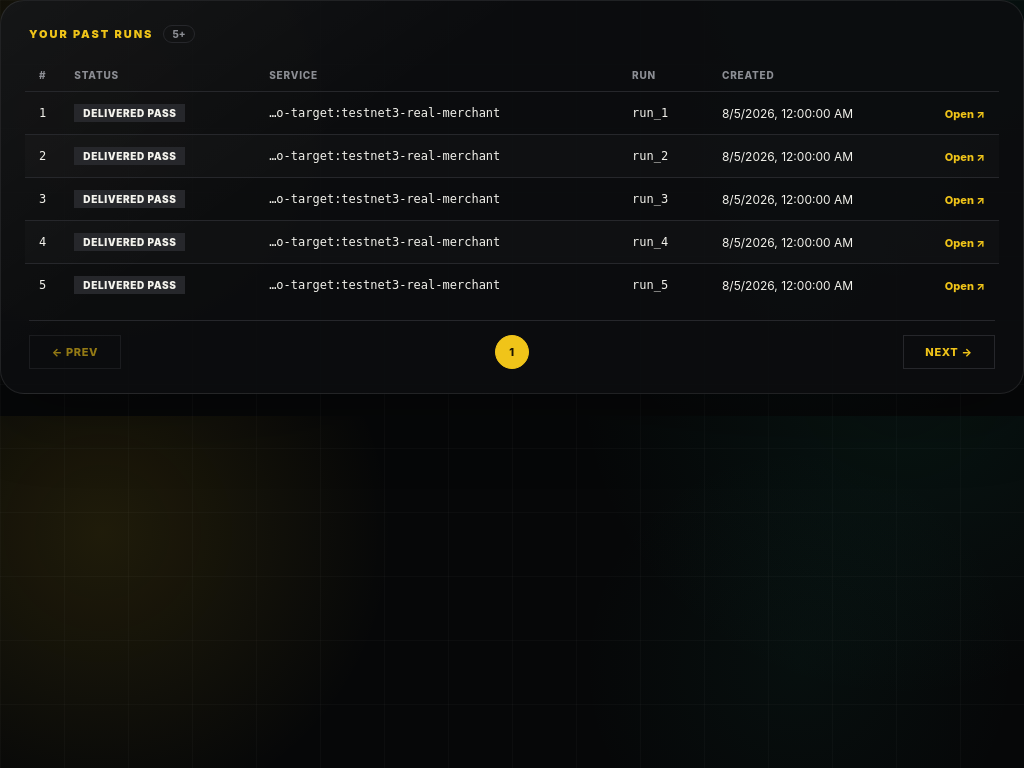
RunHistory › loads the next API batch when navigating beyond the loaded runs
The width and height of the screenshot is (1024, 768).
Click the button with aria-label "Next page".
click(949, 352)  # box [903,335,995,369]
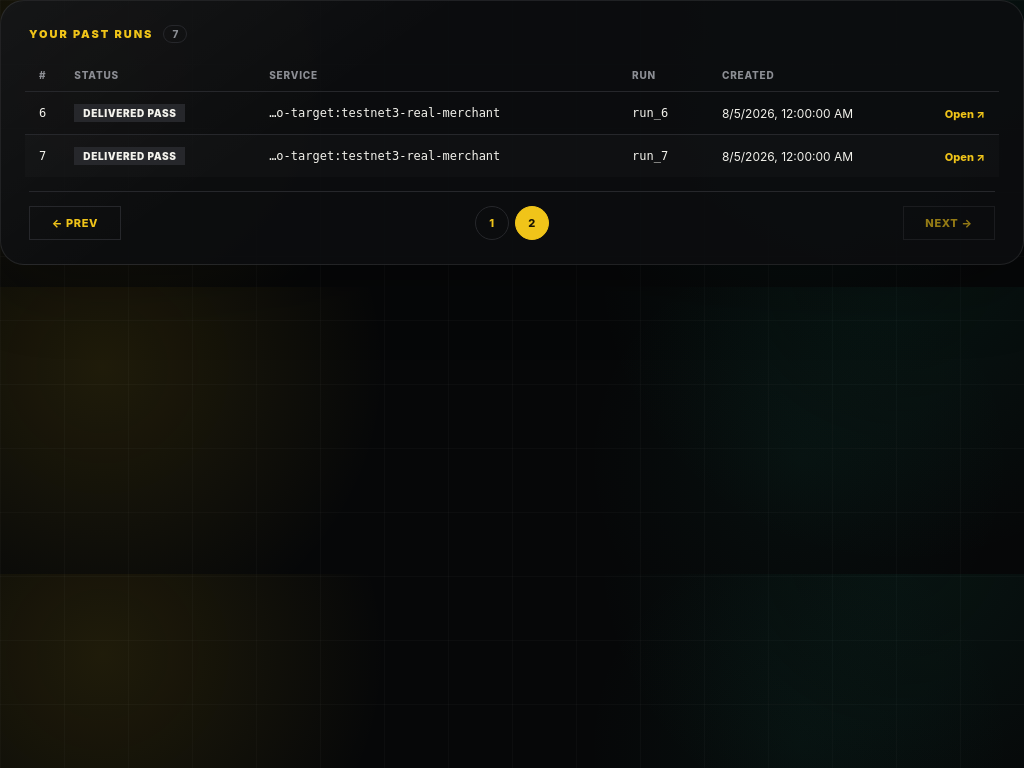
Now the number of links "Open ↗" is 2, box [945,106,985,120]; [945,150,985,164]
Now the cell titled "run_6" is shown, box [618,92,708,134]
Now the button with aria-label "Next page" is disabled, box [903,206,995,240]
